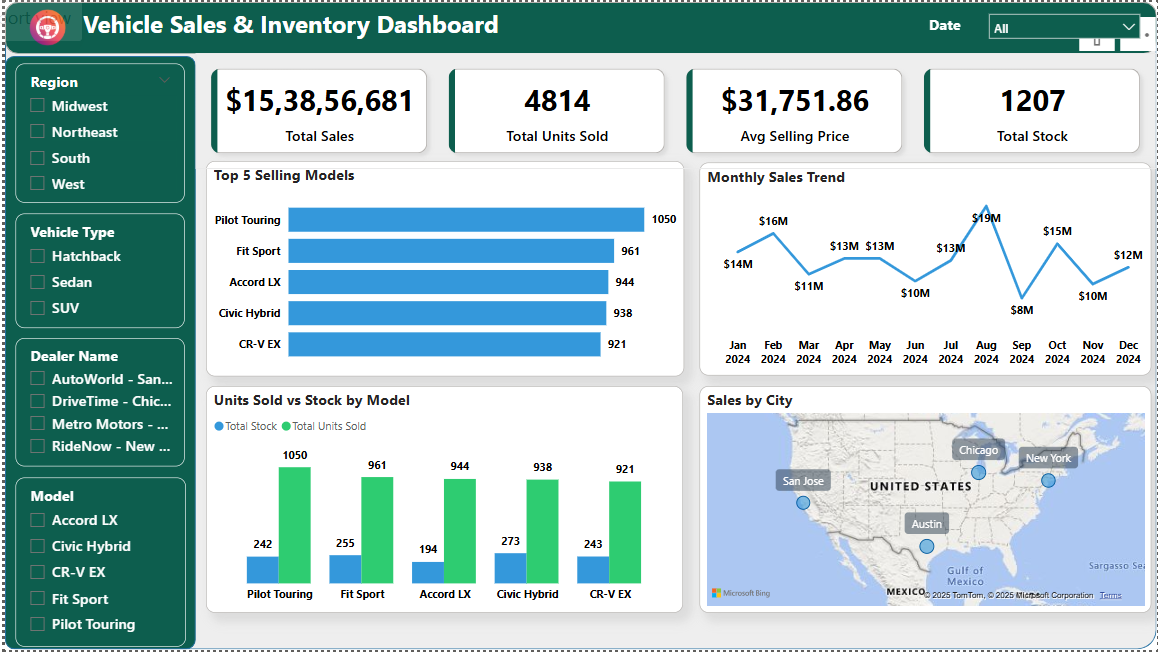

The dashboard page shown, as its layout file describes it:
{"tool":"powerbi","page":{"name":"Page 1","canvas":[1280,720],"ordinal":0},"visuals":[{"type":"shape","box":[0,0,1279.5,719.2],"z":0},{"type":"shape","box":[0,59.9,211.9,659.1],"z":1000},{"type":"shape","box":[0,0,1279.5,57.5],"z":2000},{"type":"barChart","title":"Top 5 Selling Models","fields":{"Y":["SalesData.Total Units Sold"],"Category":["DimModel.Model"]},"box":[222.6,176.4,531.5,239.2],"z":3000},{"type":"lineChart","title":"Monthly Sales Trend","fields":{"Category":["Calendar.MonthYear"],"Y":["SalesData.Total Sales"]},"box":[771.7,178.8,501.7,236.7],"z":4000},{"type":"slicer","fields":{"Values":["Dealers.Region"]},"box":[12.1,68.1,187.8,154.4],"z":5000},{"type":"slicer","fields":{"Values":["SalesData.VehicleType"]},"box":[12.1,234.7,187.8,127.2],"z":6000},{"type":"clusteredColumnChart","title":"Units Sold vs Stock by Model","fields":{"Y":["InventoryData.Total Stock","SalesData.Total Units Sold"],"Category":["DimModel.Model"]},"box":[223.3,427.2,530,251.7],"z":7000},{"type":"map","title":"Sales by City","fields":{"Category":["Dealers.City"],"Size":["SalesData.Total Sales"]},"box":[771.7,427.2,501.7,251.7],"z":8000},{"type":"textbox","box":[81.8,0,519.4,60.6],"z":9000},{"type":"cardVisual","fields":{"Data":["SalesData.Total Sales","SalesData.Total Units Sold","SalesData.Avg Selling Price","InventoryData.Total Stock"]},"box":[211.9,57,1068.3,128.6],"z":10000},{"type":"slicer","fields":{"Values":["Calendar.MonthYear"]},"box":[1082.7,3,187.8,57.5],"z":11000},{"type":"image","box":[21.9,0,51.2,57],"z":12000},{"type":"slicer","fields":{"Values":["Dealers.DealerName"]},"box":[12.1,374,187.8,142.3],"z":13000},{"type":"textbox","box":[1022.1,9.1,60.6,39.4],"z":14000},{"type":"slicer","fields":{"Values":["InventoryData.Model"]},"box":[12.1,528.5,189.3,187.8],"z":15000}]}

Visuals, with their boxes in screenshot pixels (x1, y1, x2, y2), scaled from the page's 1280x720 canvas onto the 1158x652 screenshot:
shape: x1=0 y1=0 x2=1157 y2=651
shape: x1=0 y1=54 x2=192 y2=651
shape: x1=0 y1=0 x2=1157 y2=52
"Top 5 Selling Models" barChart: x1=201 y1=160 x2=682 y2=376
"Monthly Sales Trend" lineChart: x1=698 y1=162 x2=1152 y2=376
slicer - Dealers.Region: x1=11 y1=62 x2=181 y2=201
slicer - SalesData.VehicleType: x1=11 y1=213 x2=181 y2=328
"Units Sold vs Stock by Model" clusteredColumnChart: x1=202 y1=387 x2=682 y2=615
"Sales by City" map: x1=698 y1=387 x2=1152 y2=615
textbox: x1=74 y1=0 x2=544 y2=55
cardVisual - SalesData.Total Sales x SalesData.Total Units Sold: x1=192 y1=52 x2=1157 y2=168
slicer - Calendar.MonthYear: x1=980 y1=3 x2=1149 y2=55
image: x1=20 y1=0 x2=66 y2=52
slicer - Dealers.DealerName: x1=11 y1=339 x2=181 y2=468
textbox: x1=925 y1=8 x2=980 y2=44
slicer - InventoryData.Model: x1=11 y1=479 x2=182 y2=649
